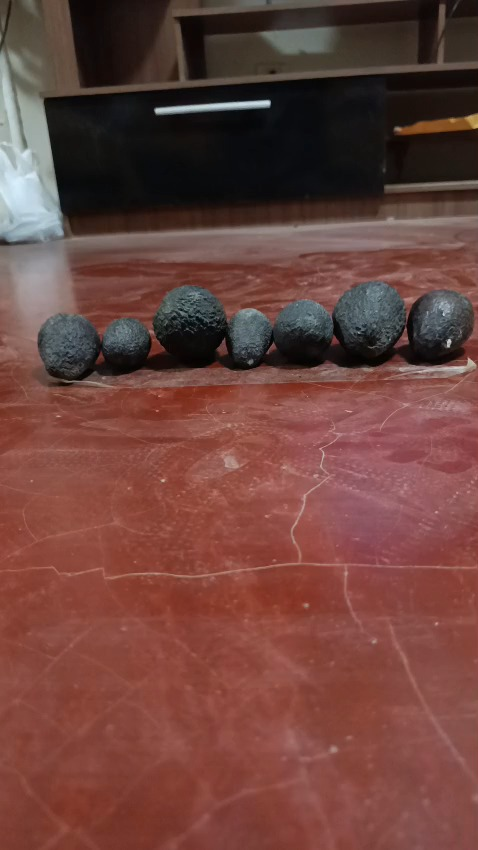Primera: (331, 279, 407, 362), (152, 283, 227, 364)
Segunda: (407, 289, 474, 362), (37, 313, 101, 381), (272, 299, 333, 364)
Tercera: (225, 308, 273, 370), (101, 316, 150, 370)
